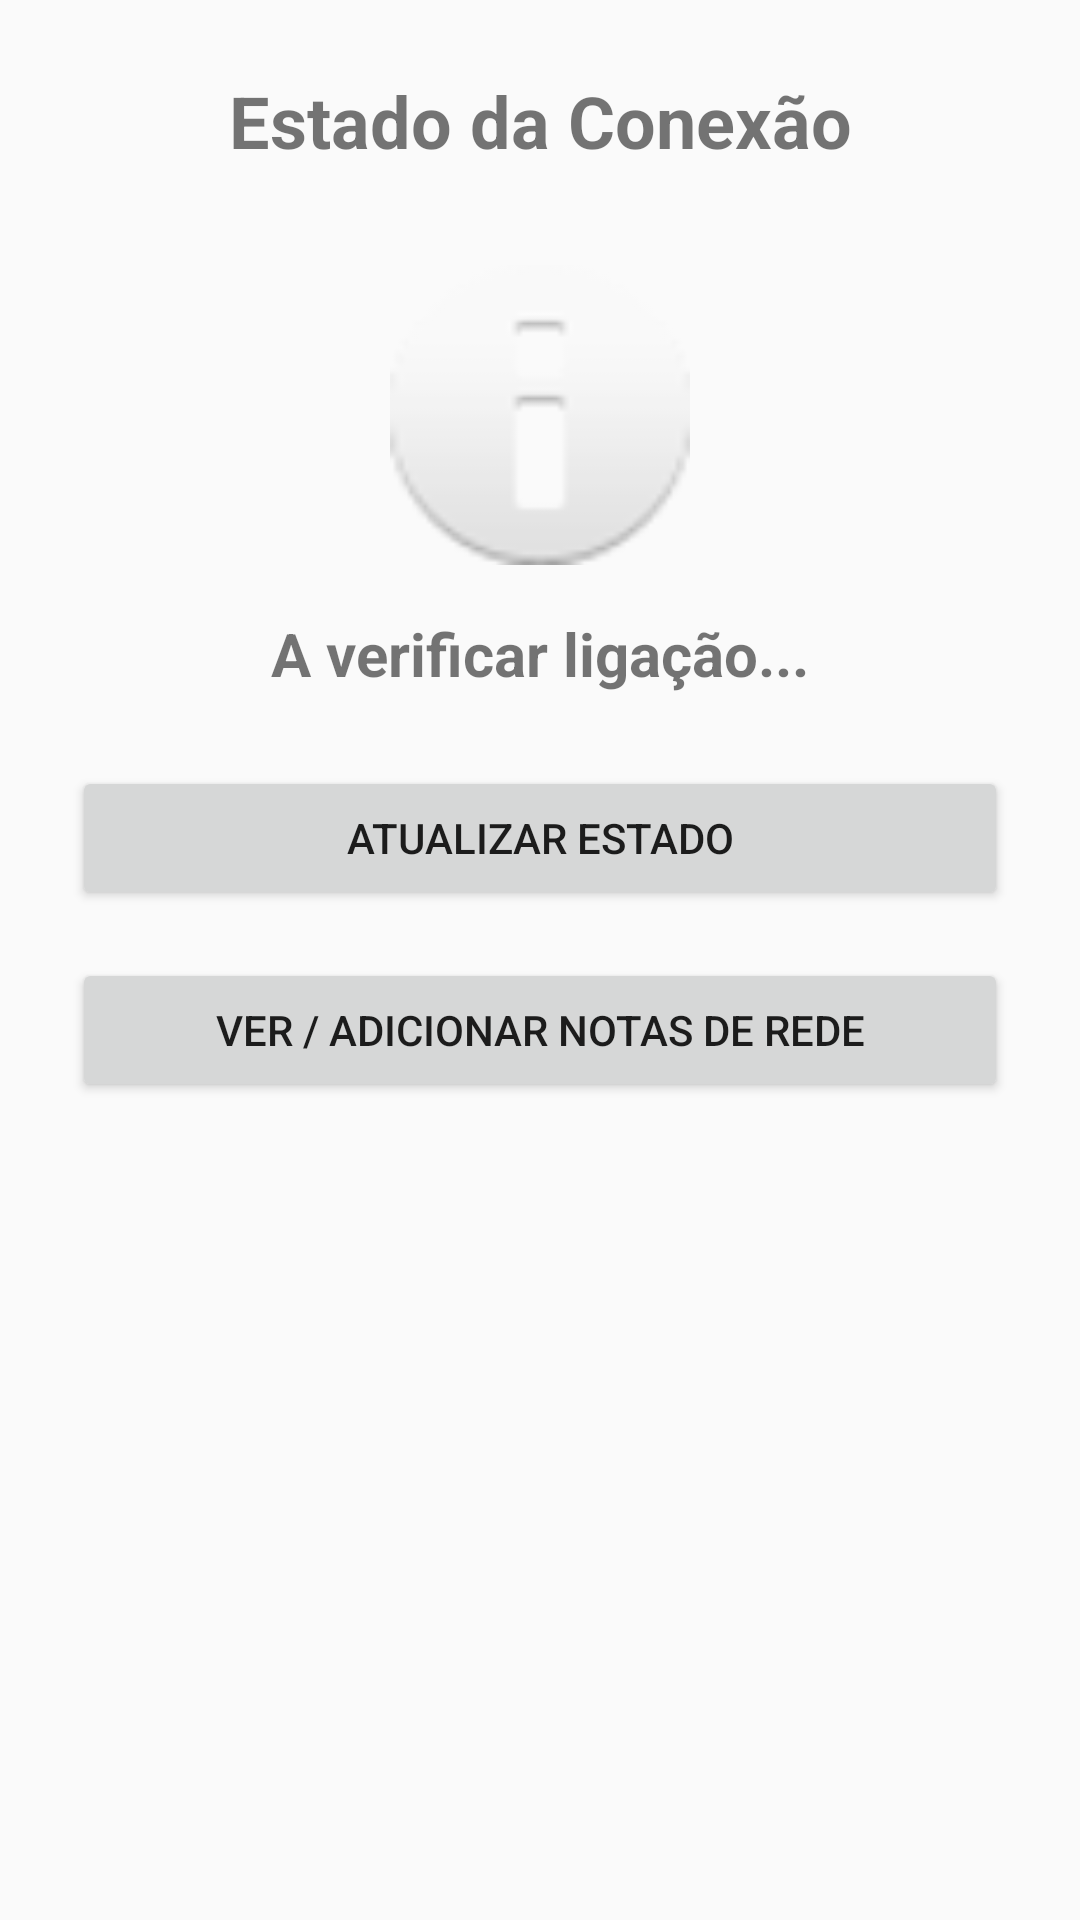

Where icons sit on this 1080w x 1920h app screen, as {"x1": x1, "y1": y1, "x2": x2, "y2": y2}:
info: {"x1": 390, "y1": 320, "x2": 690, "y2": 565}
